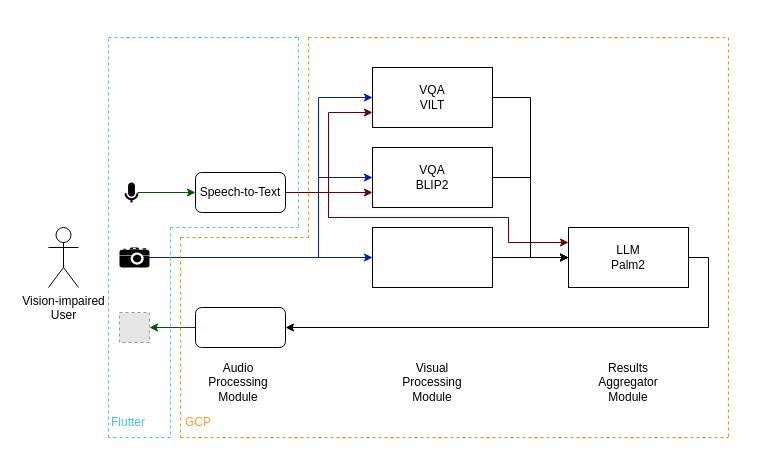
The diagram is 765 pixels wide and 474 high, and some of its shapes have lost their labels. Grey dashed boxes stand in for pictures. Each missing label, with the centre of its shape:
Object detector YOLOv8: (x=432, y=257)
Text-to-Speech: (x=240, y=327)
